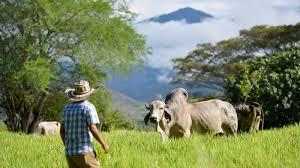cow: (146, 100, 238, 144)
